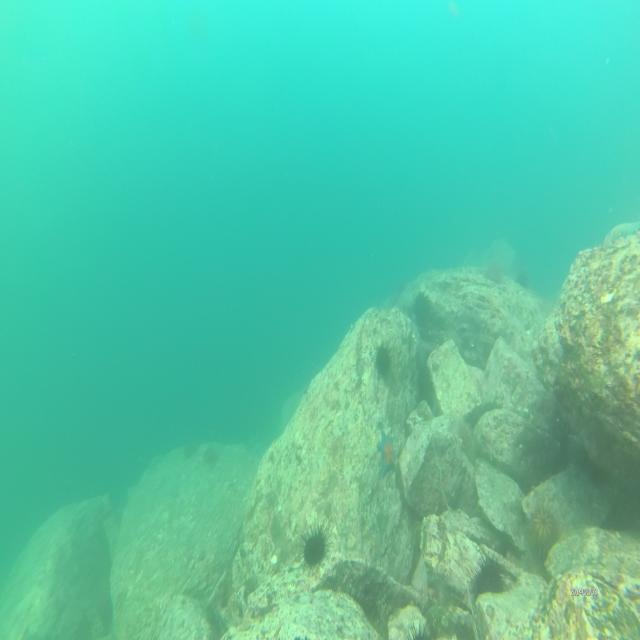echinus: (471, 550, 505, 600), (528, 502, 556, 557), (300, 523, 326, 569), (370, 341, 392, 378)
starfish: (375, 428, 397, 478)
